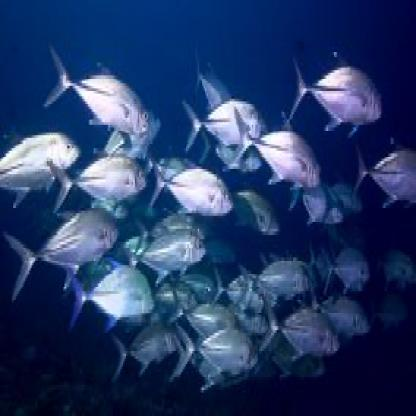jack: (36, 25, 148, 137), (285, 35, 383, 147), (257, 282, 341, 370), (148, 142, 233, 228), (1, 123, 83, 212), (64, 253, 156, 329), (168, 305, 257, 378), (237, 115, 317, 196), (174, 85, 266, 155), (45, 155, 153, 212), (360, 124, 415, 207), (142, 222, 208, 284)
